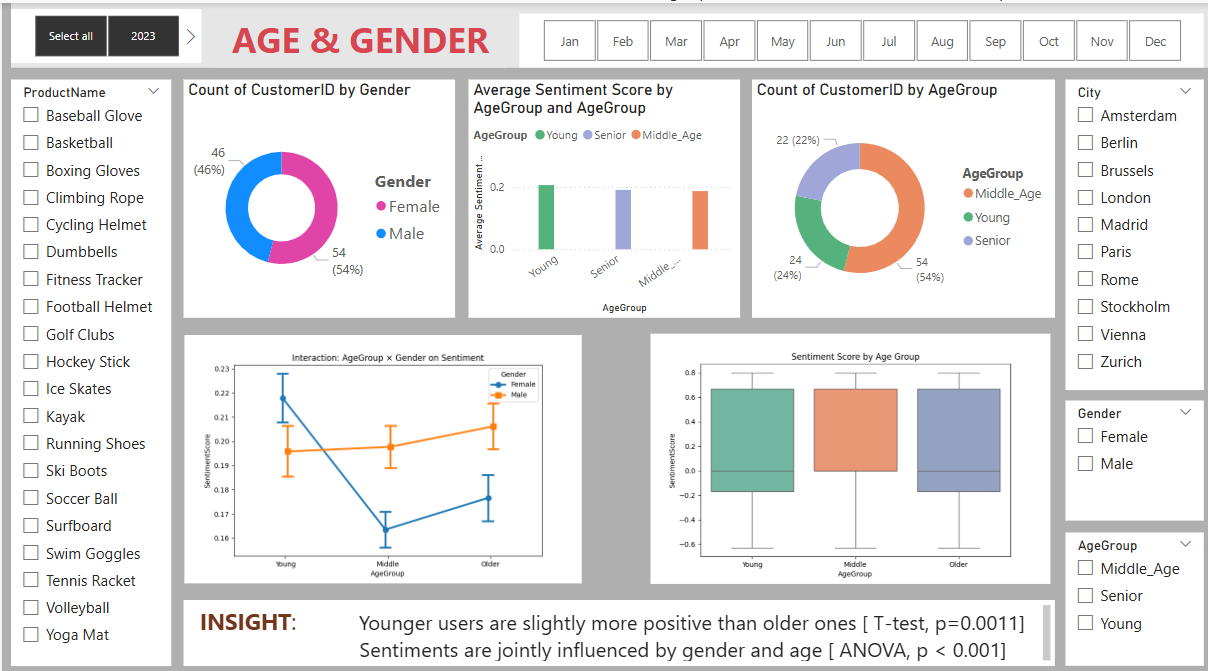

What the dashboard file says about the page in this screenshot:
{"tool":"powerbi","page":{"name":"Age and Gender","canvas":[1280,720],"ordinal":2},"visuals":[{"type":"textbox","box":[9.5,0,1270.9,68.4],"z":0},{"type":"slicer","fields":{"Values":["products.ProductName"]},"box":[9.5,81.1,170.2,621.9],"z":1000},{"type":"slicer","fields":{"Values":["customers.AgeGroup"]},"box":[1127.7,561.5,146.3,141.6],"z":2000},{"type":"slicer","fields":{"Values":["geography.City"]},"box":[1127.7,81.1,146.3,329.3],"z":3000},{"type":"slicer","fields":{"Values":["customers.Gender"]},"box":[1127.7,421.5,146.3,127.2],"z":4000},{"type":"slicer","fields":{"Values":["Calendar.Year"]},"box":[9.5,6.4,202,57.3],"z":5000},{"type":"slicer","fields":{"Values":["Calendar.MonthNameShort"]},"box":[548.8,11.1,725.3,57.3],"z":6000},{"type":"textbox","box":[225.9,8,308.6,60.4],"z":7000},{"type":"donutChart","fields":{"Category":["customers.Gender"],"Y":["CountNonNull(customers.CustomerID)"]},"box":[192.5,81.1,287.9,252.9],"z":8000},{"type":"donutChart","fields":{"Category":["customers.AgeGroup"],"Y":["CountNonNull(customers.CustomerID)"]},"box":[795.3,81.1,321.3,252.9],"z":9000},{"type":"clusteredColumnChart","fields":{"Y":["Calculations.Average Sentiment Score"],"Category":["customers.AgeGroup"],"Series":["customers.AgeGroup"]},"box":[494.7,81.1,287.9,252.9],"z":10000},{"type":"image","box":[682.4,334,434.2,299],"z":11000},{"type":"textbox","box":[192.5,633.1,924.1,70],"z":12000},{"type":"image","box":[12.7,346.8,782.6,273.6],"z":13000}]}

Visuals, with their boxes in screenshot pixels (x1, y1, x2, y2), scaled from the page's 1280x720 canvas onto the 1208x671 screenshot:
textbox: 9/0/1207/64
slicer - products.ProductName: 9/76/170/655
slicer - customers.AgeGroup: 1064/523/1202/655
slicer - geography.City: 1064/76/1202/382
slicer - customers.Gender: 1064/393/1202/511
slicer - Calendar.Year: 9/6/200/59
slicer - Calendar.MonthNameShort: 518/10/1202/64
textbox: 213/7/504/64
donutChart - customers.Gender x CountNonNull(customers.CustomerID): 182/76/453/311
donutChart - customers.AgeGroup x CountNonNull(customers.CustomerID): 751/76/1054/311
clusteredColumnChart - Calculations.Average Sentiment Score x customers.AgeGroup: 467/76/739/311
image: 644/311/1054/590
textbox: 182/590/1054/655
image: 12/323/751/578
